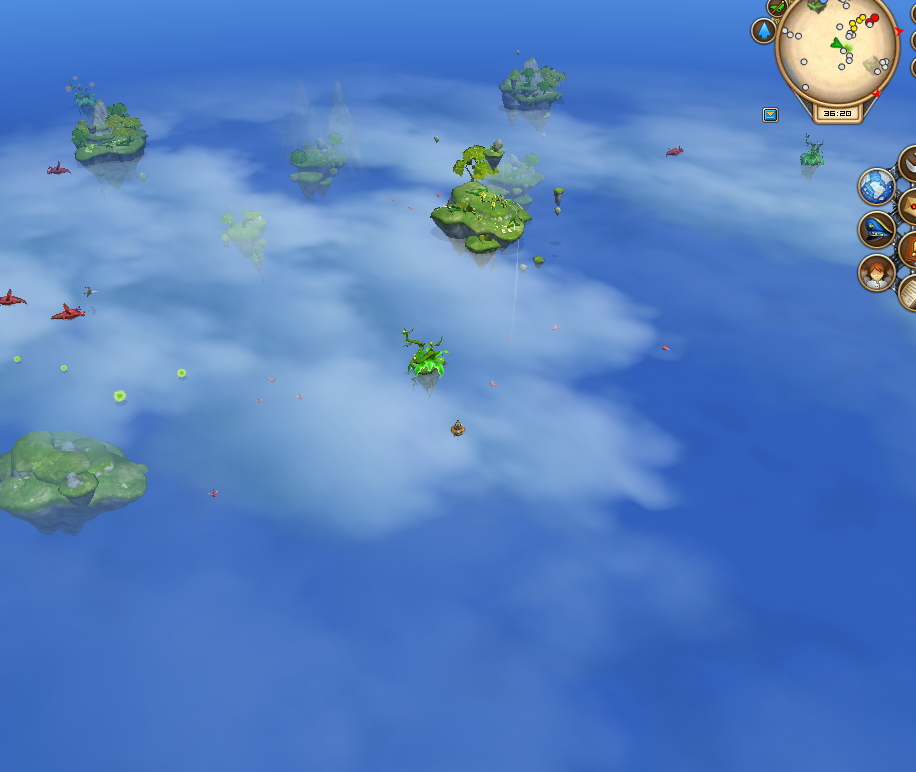dandelion-empty: (397, 323, 450, 398), (796, 130, 828, 179)
fluff: (111, 389, 130, 408), (175, 366, 190, 383), (11, 354, 25, 366), (59, 362, 71, 375)
